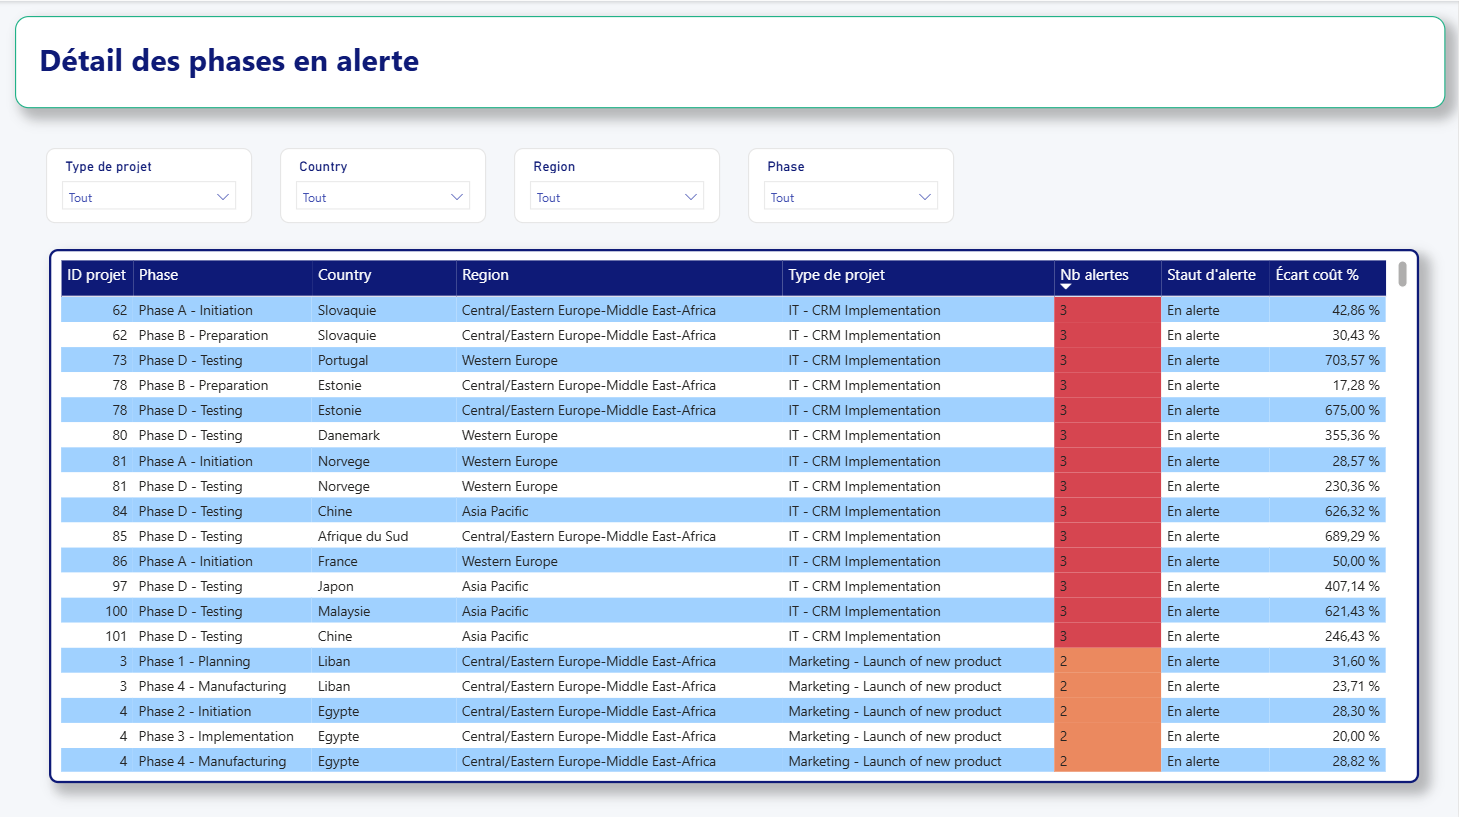

What the dashboard file says about the page in this screenshot:
{"tool":"powerbi","page":{"name":"Détail des alertes","canvas":[1280,720],"ordinal":1},"visuals":[{"type":"tableEx","fields":{"Values":["Fact_ProjectPhasePerformance.Project_ID","Fact_ProjectPhasePerformance.Phase","Fact_ProjectPhasePerformance.Country","Fact_ProjectPhasePerformance.Region","Fact_ProjectPhasePerformance.Project_Type","Fact_ProjectPhasePerformance.Alert_Count","Fact_ProjectPhasePerformance.Alert_Status","select","Fact_ProjectPhasePerformance.Écart coût %"]},"box":[43.4,218.1,1203.3,469.1],"z":0},{"type":"slicer","fields":{"Values":["Fact_ProjectPhasePerformance.Project_Type"]},"box":[40.4,129.1,180.9,65.9],"z":1000},{"type":"slicer","fields":{"Values":["Fact_ProjectPhasePerformance.Country"]},"box":[245.9,129.1,180.9,65.9],"z":2000},{"type":"slicer","fields":{"Values":["Fact_ProjectPhasePerformance.Phase"]},"box":[657,129.5,180.9,65.6],"z":3000},{"type":"slicer","fields":{"Values":["Fact_ProjectPhasePerformance.Region"]},"box":[451.5,129.1,180.9,65.9],"z":4000},{"type":"textbox","title":"Vue exécutive - Suivi des projets Sanitoral","box":[13,13.2,1255.6,80.8],"z":5000}]}

Visuals, with their boxes in screenshot pixels (x1, y1, x2, y2), scaled from the page's 1280x720 canvas onto the 1459x817 screenshot:
tableEx - Fact_ProjectPhasePerformance.Project_ID x Fact_ProjectPhasePerformance.Phase: rect(49, 247, 1421, 780)
slicer - Fact_ProjectPhasePerformance.Project_Type: rect(46, 146, 252, 221)
slicer - Fact_ProjectPhasePerformance.Country: rect(280, 146, 486, 221)
slicer - Fact_ProjectPhasePerformance.Phase: rect(749, 147, 955, 221)
slicer - Fact_ProjectPhasePerformance.Region: rect(515, 146, 721, 221)
"Vue exécutive - Suivi des projets Sanitoral" textbox: rect(15, 15, 1446, 107)
